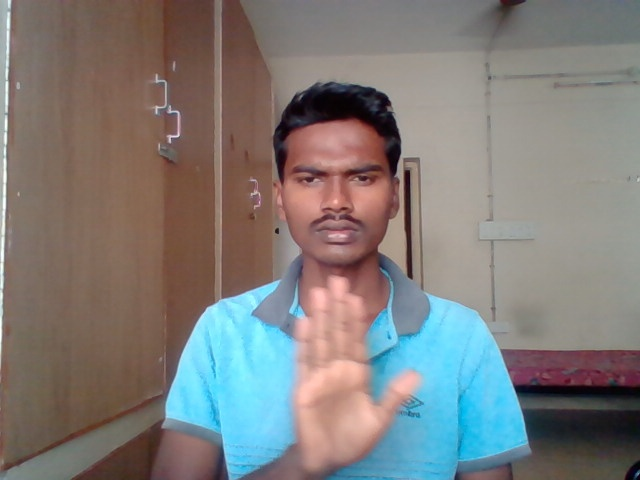Hello: (287, 273, 423, 480)
